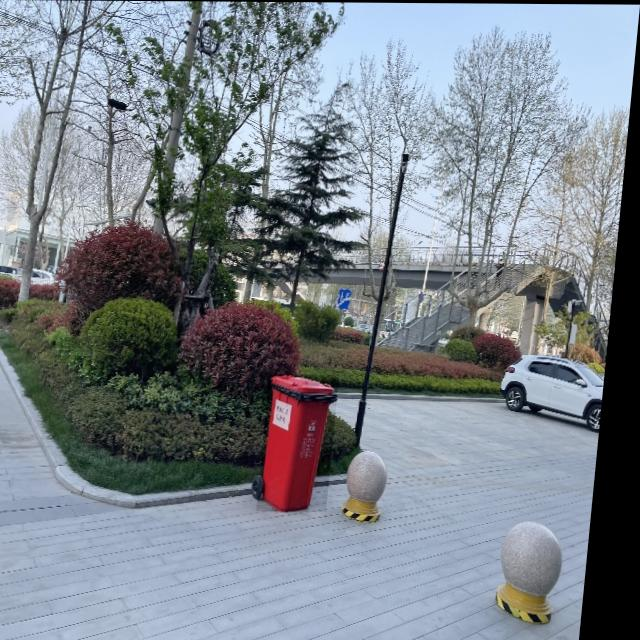garbage_bin: (266, 374, 347, 511)
